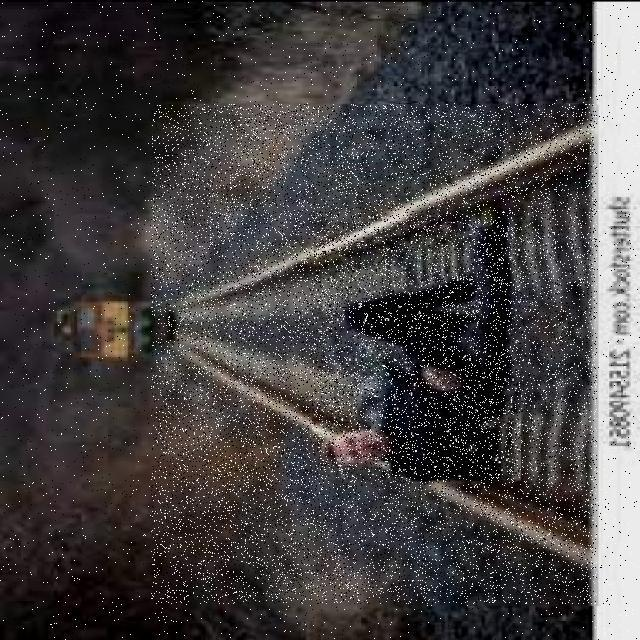danger: (314, 212, 520, 480)
rail: (152, 104, 597, 604)
